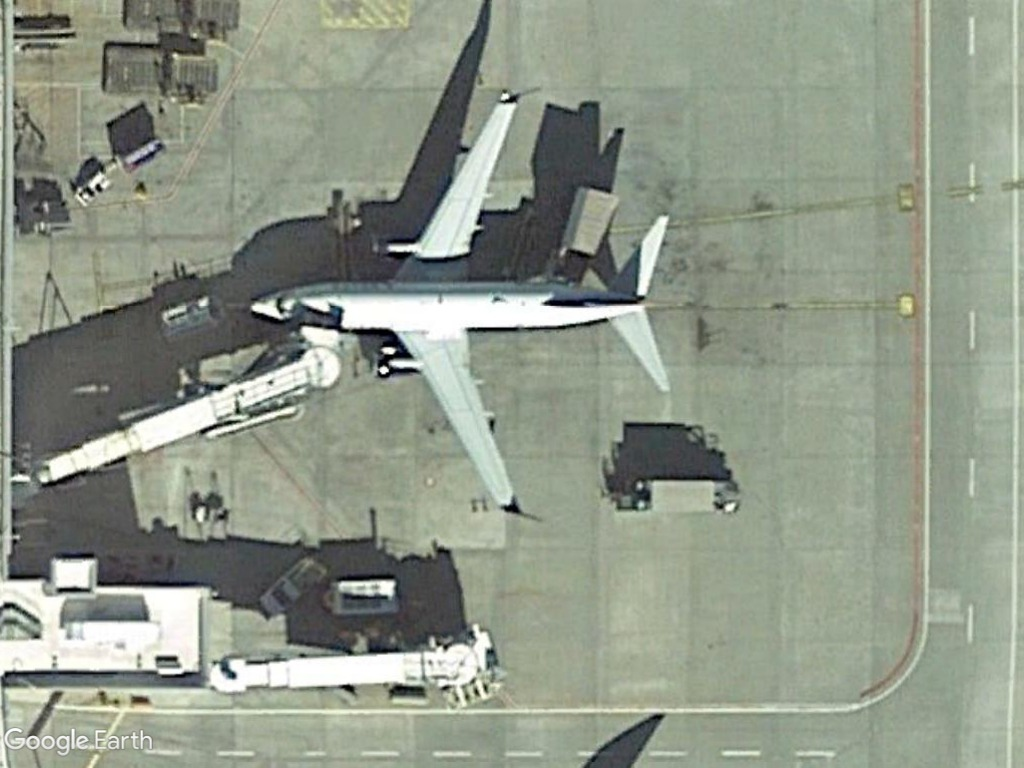airliner: (242, 82, 681, 523)
